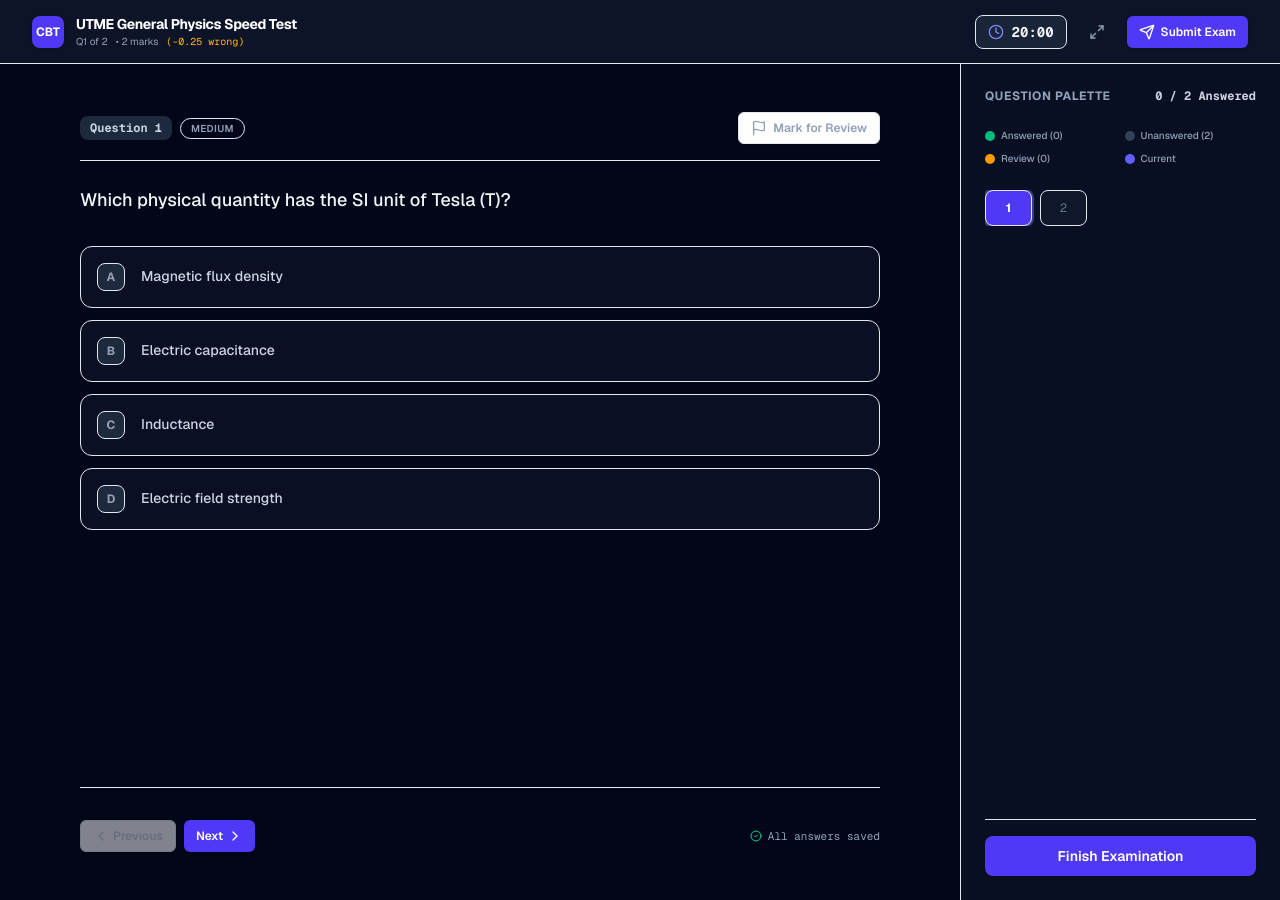
Test case: CBT Exam Runner Workstation Component › toggles mark for review flag
Click the button "Mark for Review": [809, 128] box [738, 112, 880, 144]
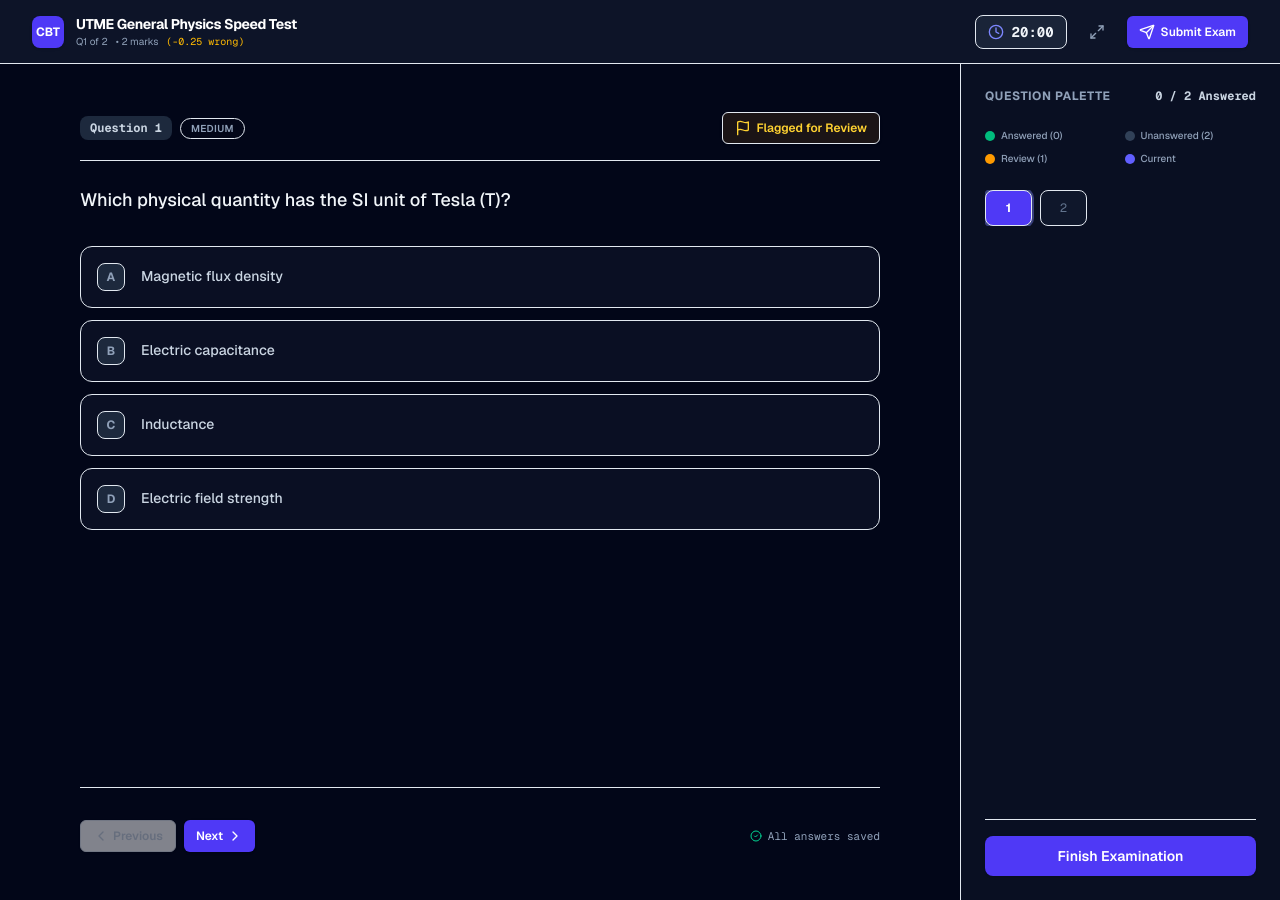
Expected: the button "Flagged for Review" is shown, [722, 112, 880, 144]
